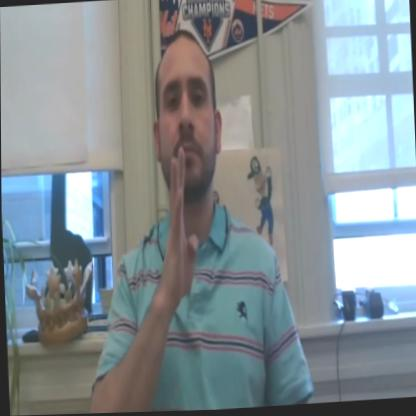Talk: (140, 19, 236, 302)
